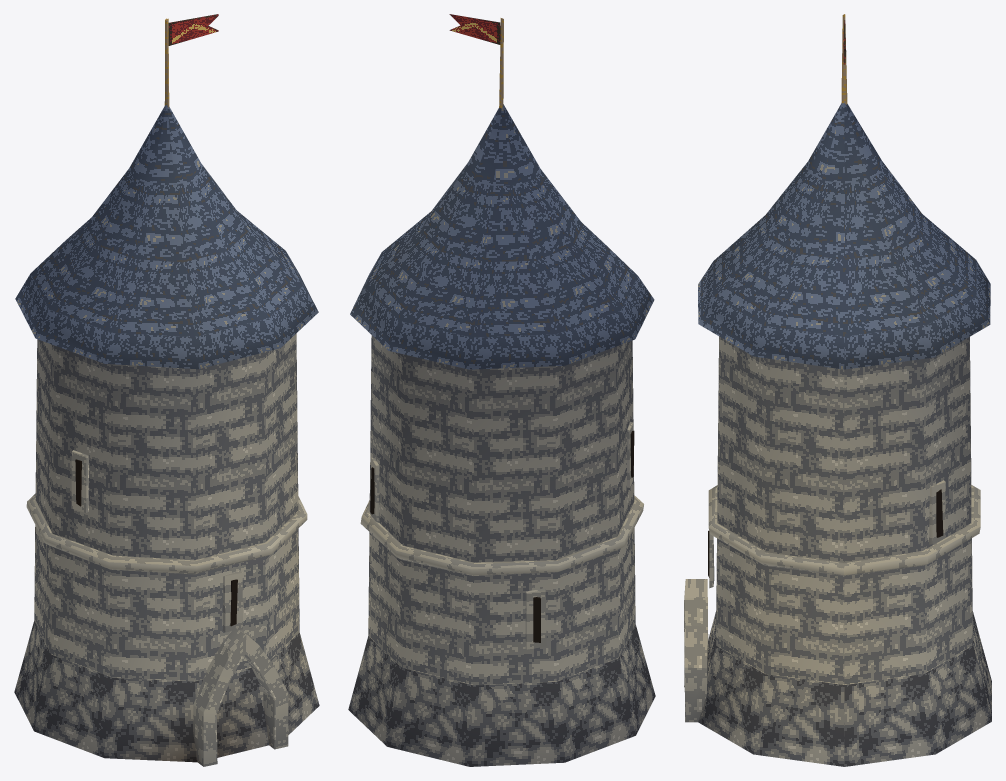
The model's file is cst.tower_round__door.glb.
3 renders of one model, left to right at view 1: azimuth 30°, elevation 25°; view 2: azimuth 150°, elevation 25°; view 3: azimuth 270°, elevation 25°, orthographic.
Parts seen in each view (by area): view 1: kit_drum, kit_top, kit_detail; view 2: kit_drum, kit_top, kit_detail; view 3: kit_drum, kit_top, kit_detail.
Part boxes in pixels (x1=…): kit_drum: x1=14, y1=333, x2=319, y2=762; kit_top: x1=15, y1=104, x2=318, y2=369; kit_detail: x1=26, y1=14, x2=307, y2=766; kit_drum: x1=348, y1=335, x2=655, y2=766; kit_top: x1=350, y1=104, x2=654, y2=369; kit_detail: x1=360, y1=14, x2=643, y2=649; kit_drum: x1=698, y1=336, x2=991, y2=766; kit_top: x1=698, y1=103, x2=990, y2=369; kit_detail: x1=684, y1=14, x2=980, y2=722.
Size of the model in its own units: 6.9 by 16.87 by 6.85.
7 materials, 7 textured.
